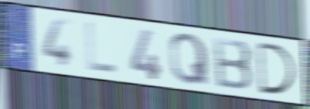4: (129, 26, 164, 83), (40, 16, 75, 70)
B: (211, 35, 255, 92)
D: (255, 40, 299, 97)
L: (84, 20, 119, 76)
Q: (168, 31, 212, 87)
